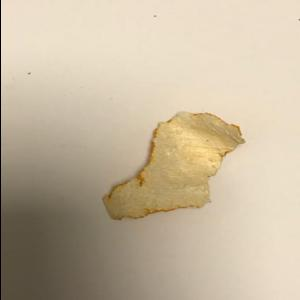Trash: (102, 112, 248, 222)
